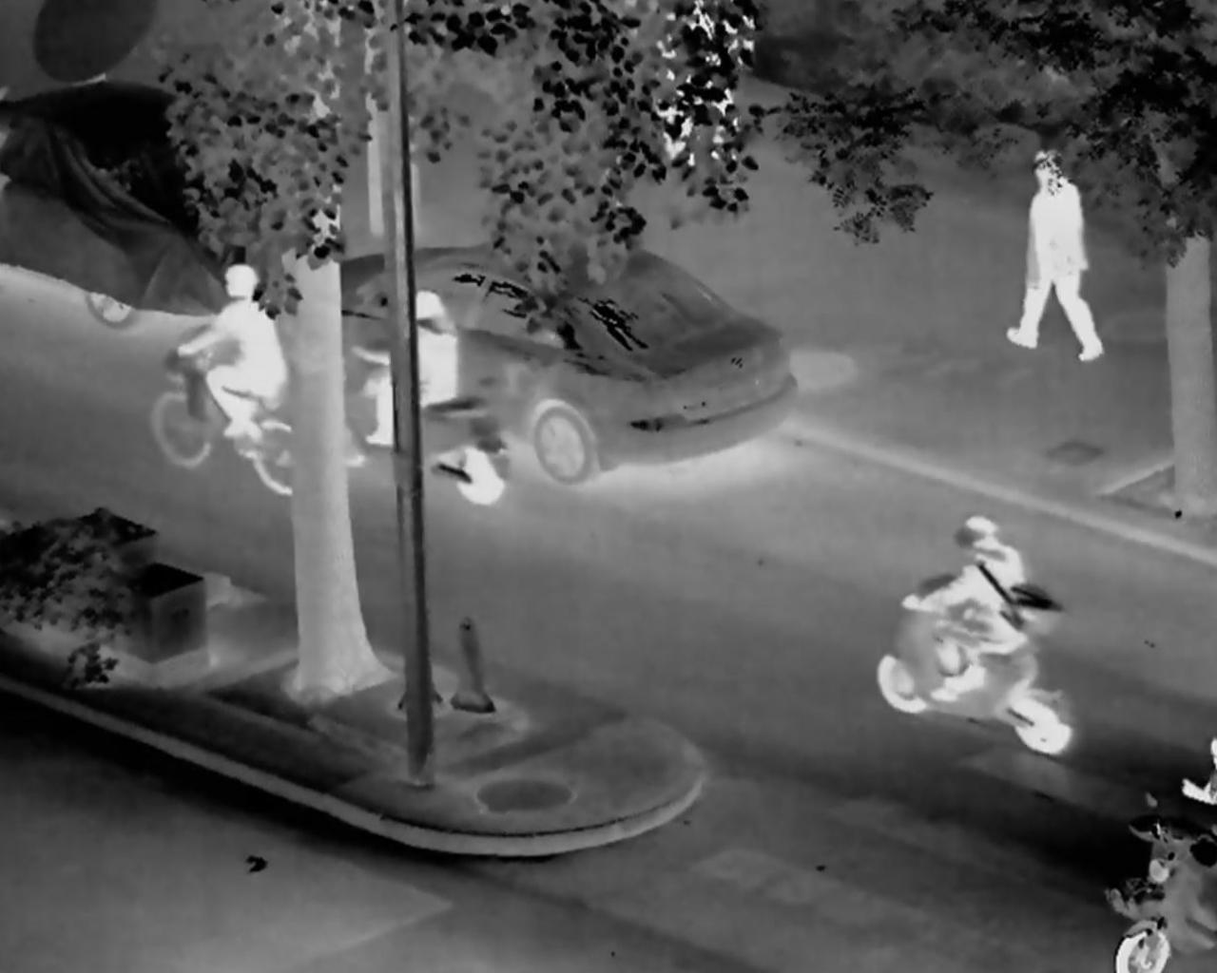person: (901, 517, 1032, 701), (1007, 153, 1104, 364), (178, 262, 285, 447), (357, 292, 455, 455)
